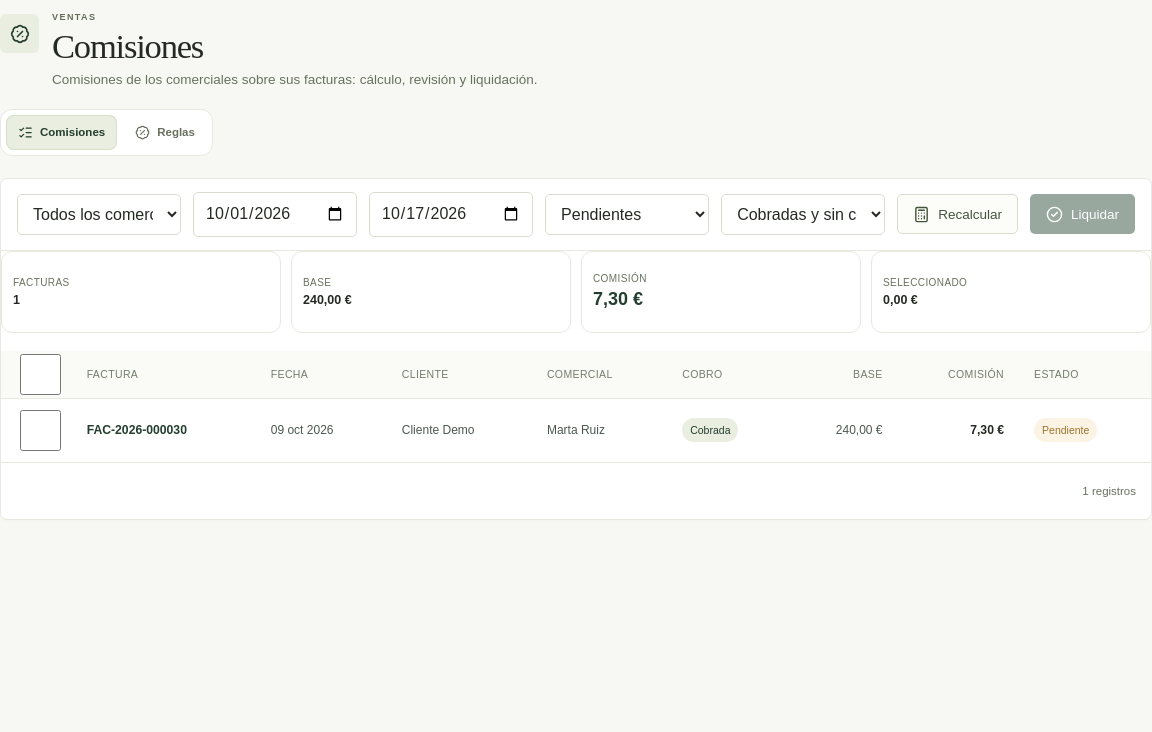
Test case: lists the pending commissions with totals and recalculates the period
Check: the table named "Comisiones" shows "FAC-2026-000030", box [87,423,187,437]
Check: the table named "Comisiones" shows "Cobrada", box [690,424,730,436]
Select "V01 · Marta Ruiz" in the dropdown named "Comercial" at (99, 214), box [17,194,181,235]
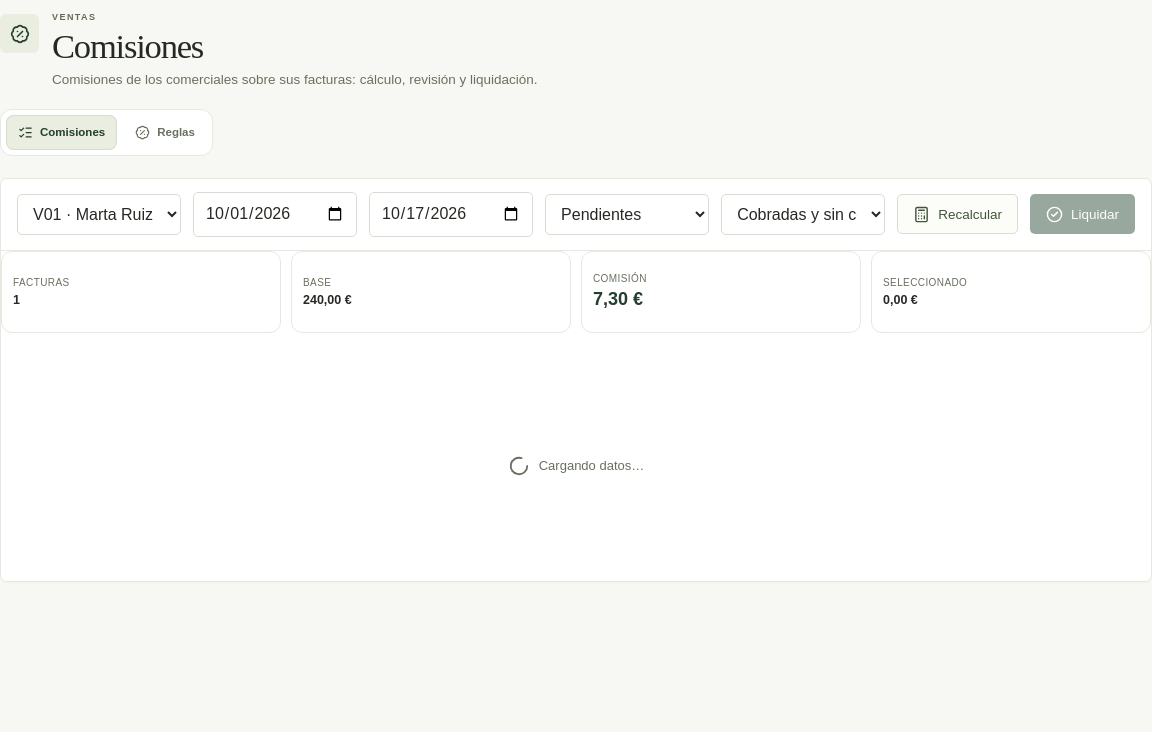
Click the button "Recalcular" at (958, 214), box [897,194,1018,234]
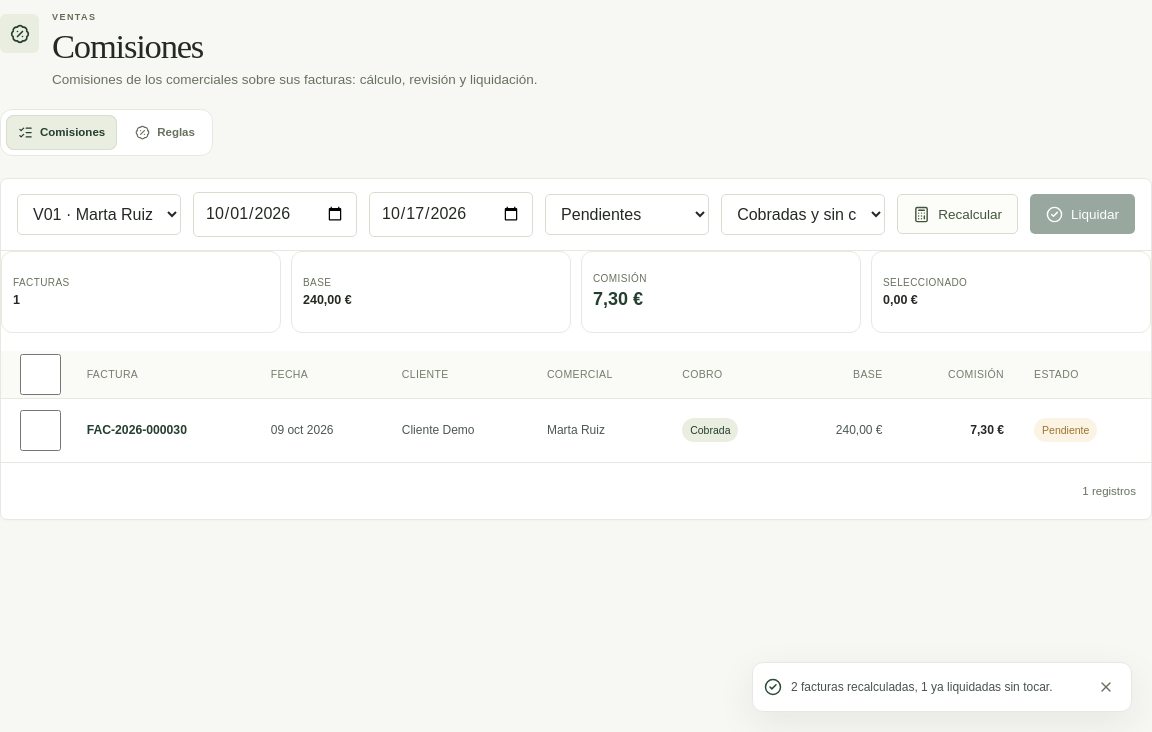
Check: the text "2 facturas recalculadas, 1 ya liquidadas sin tocar." is shown, box [791,680,1083,694]
